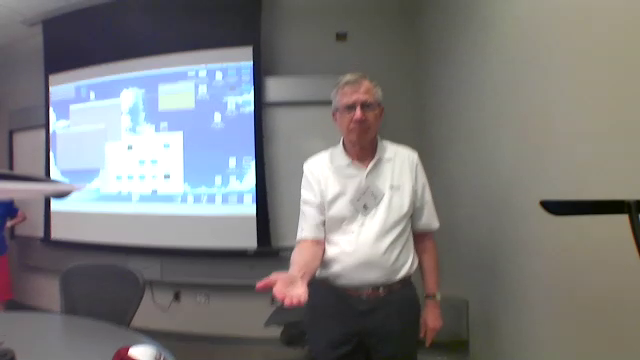land: (252, 262, 317, 311)
